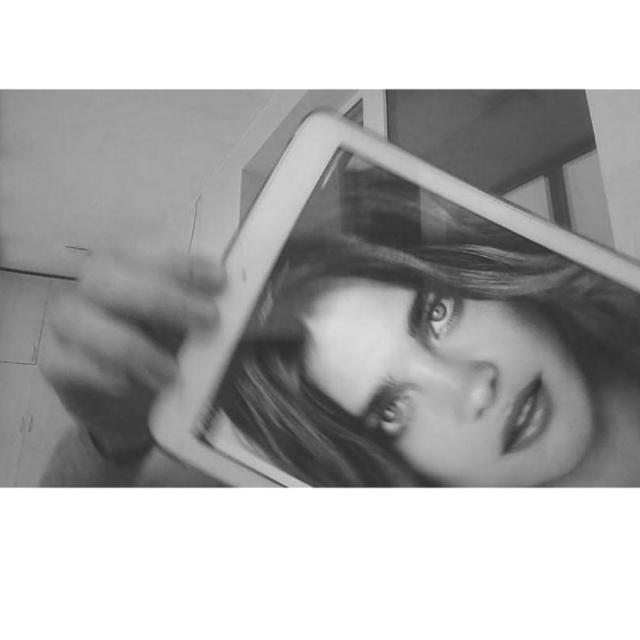fake: (134, 102, 640, 486)
